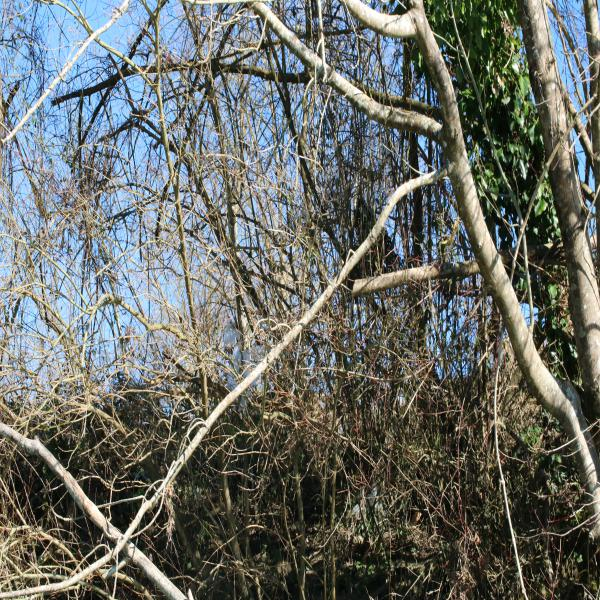fragments: (218, 318, 271, 414)
